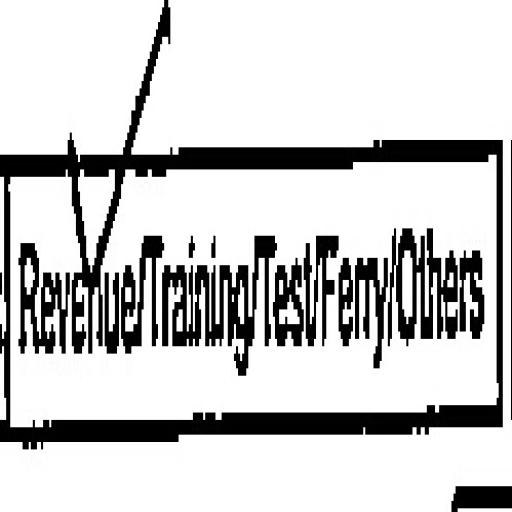check: (13, 120, 144, 470)
